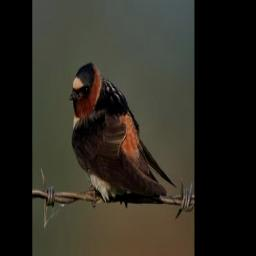Swallow: (68, 59, 177, 207)
